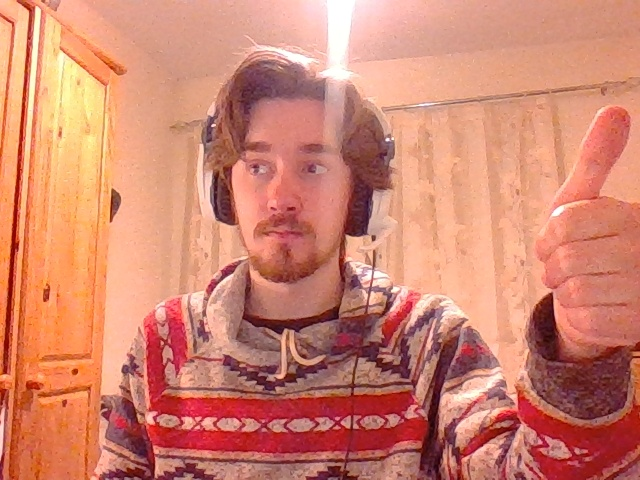good: (536, 106, 640, 352)
